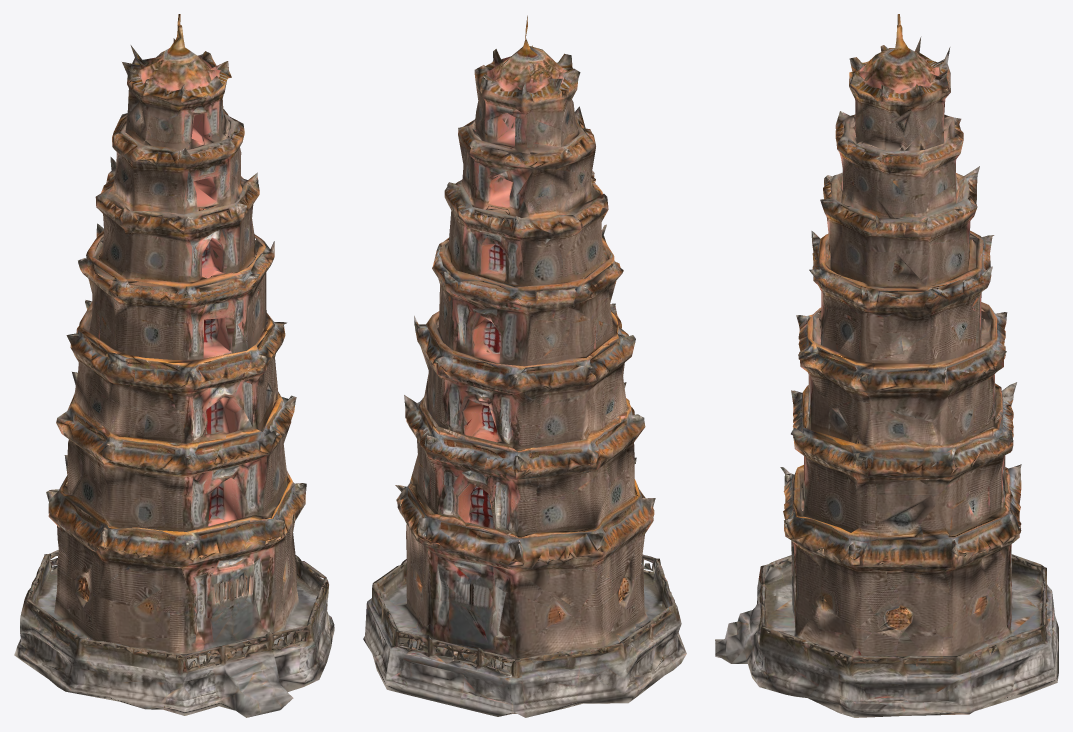
Rendered from thap-phuoc-duyen.glb.
3 renders of one model, left to right at view 1: azimuth 30°, elevation 25°; view 2: azimuth 150°, elevation 25°; view 3: azimuth 270°, elevation 25°, orthographic.
Bounding box in the file's own units: 0.4429 × 0.9989 × 0.4873.
1 material, 1 textured.
